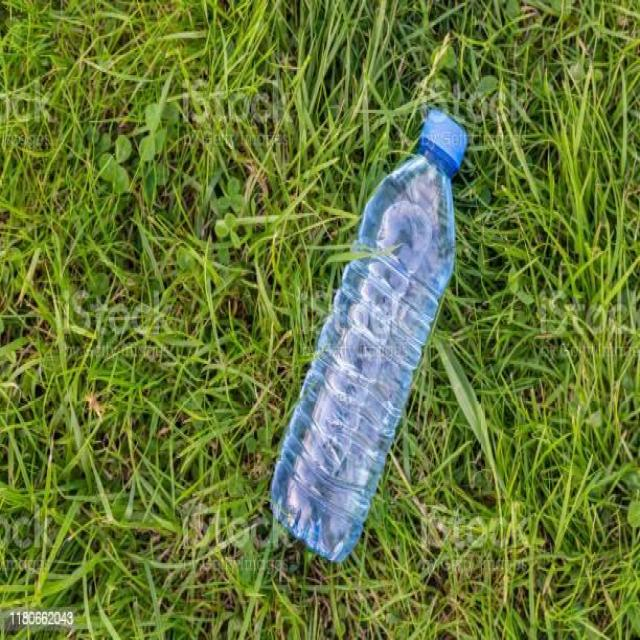bottle: (266, 98, 486, 550)
